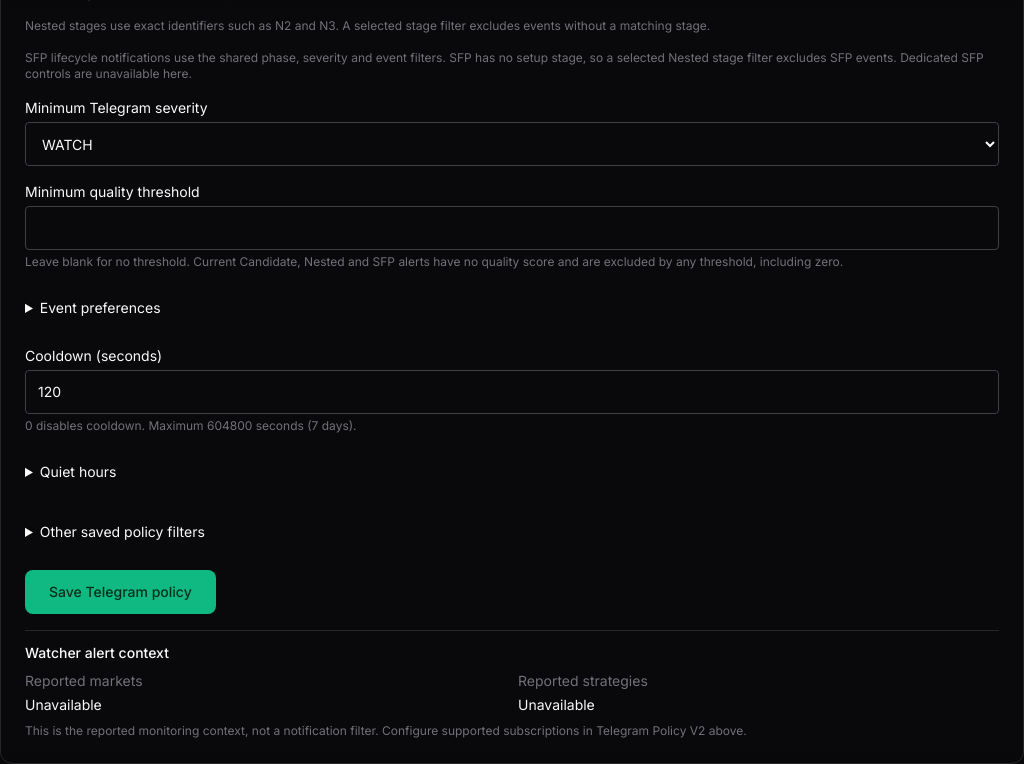
Scenario: Policy V2 settings integration › clears stale V2 controls if the read after saving fails
The image size is (1024, 764).
(page scrolled)
Click the button "Save Telegram policy" at (120, 592), box x1=25 y1=570 x2=216 y2=614
(page scrolled)
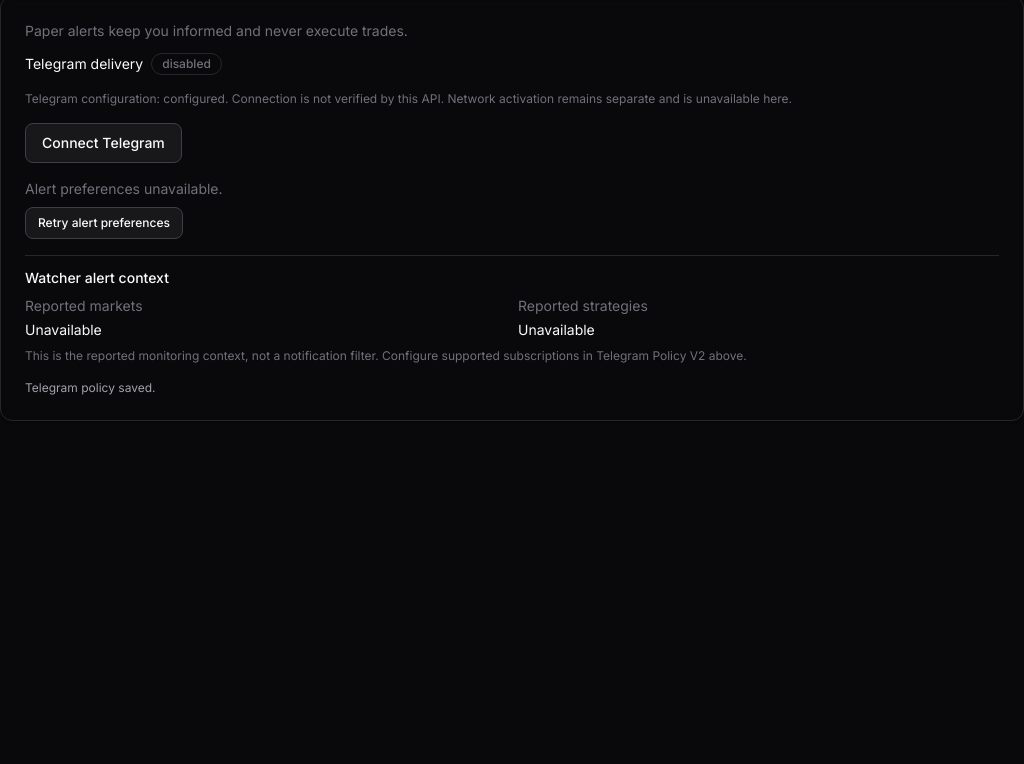
Expected: the element with test id "settings-telegram-state" shows "disabled", x1=162 y1=56 x2=211 y2=71
Expected: the text "Alert preferences unavailable." is shown, x1=25 y1=180 x2=223 y2=197
